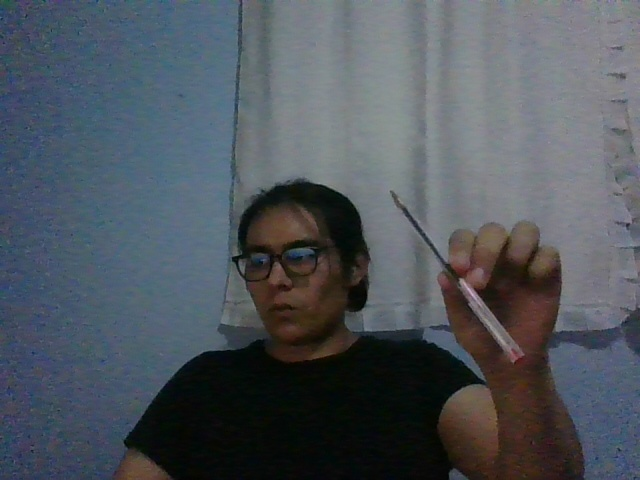pluma: (388, 190, 525, 366)
